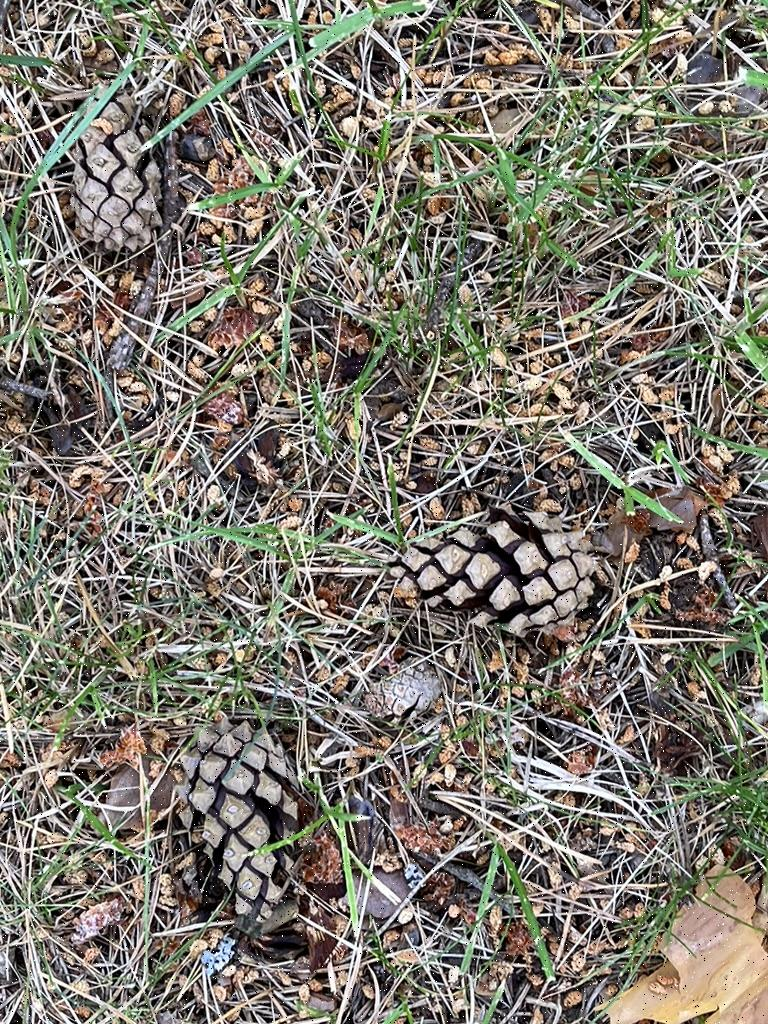pine: (164, 700, 318, 958), (388, 496, 606, 653), (58, 70, 186, 266)
